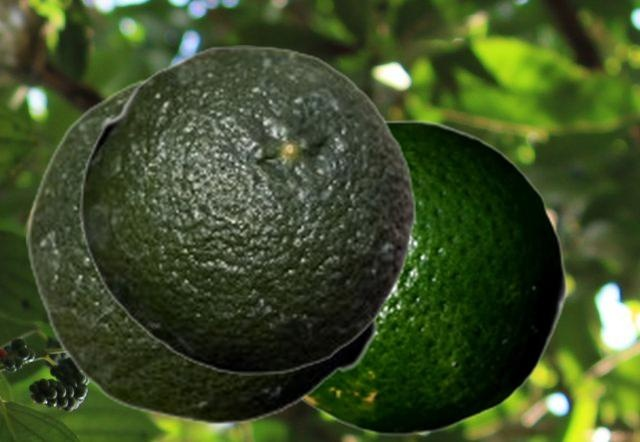calamansi: (26, 70, 384, 424), (79, 45, 416, 374), (300, 119, 567, 435)
